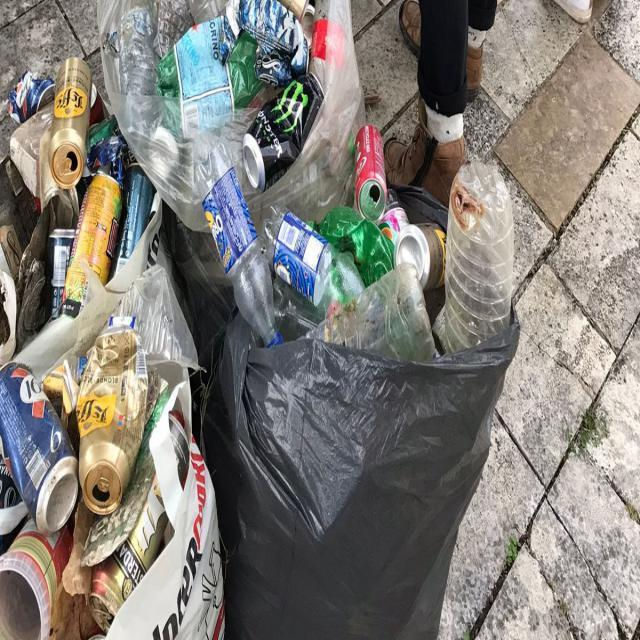Trashbag: (202, 328, 505, 640)
